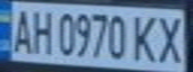0: (106, 10, 130, 61), (54, 8, 75, 56)
7: (90, 10, 109, 60)
9: (72, 9, 93, 57)
A: (6, 4, 36, 55)
H: (27, 6, 54, 55)
K: (127, 11, 160, 63)
X: (151, 12, 187, 64)
